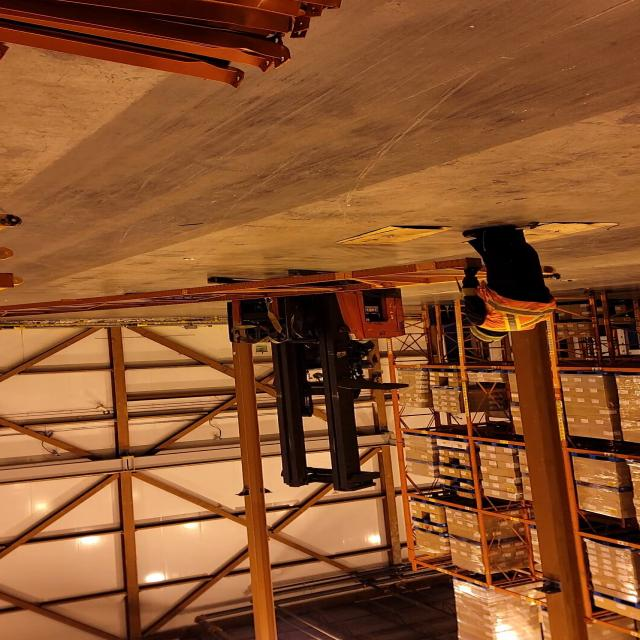forklift: (205, 268, 408, 484)
human: (452, 219, 559, 350), (301, 330, 380, 375)
objectofinterest: (0, 255, 564, 321), (461, 217, 623, 250), (332, 224, 461, 247)
